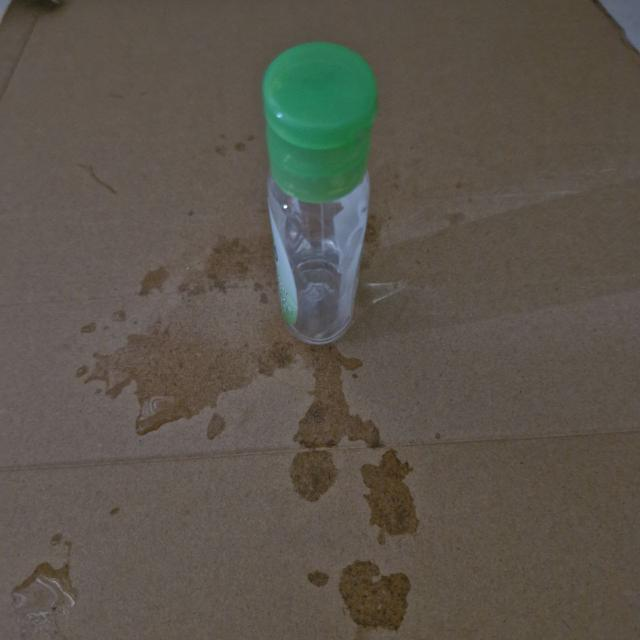plastic: (250, 33, 380, 355)
